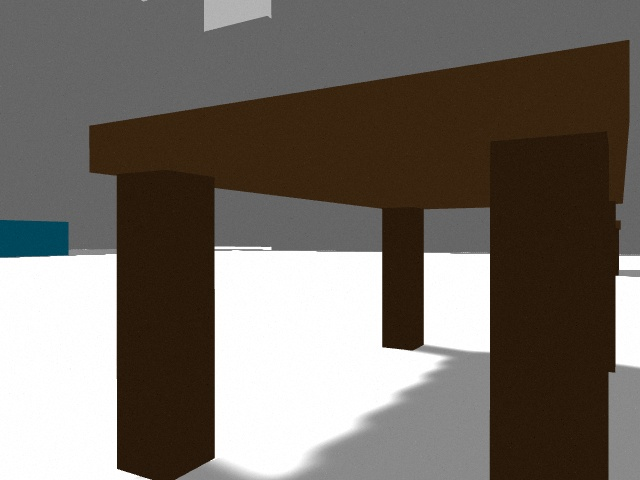blue_drop_zone: (0, 220, 69, 257)
